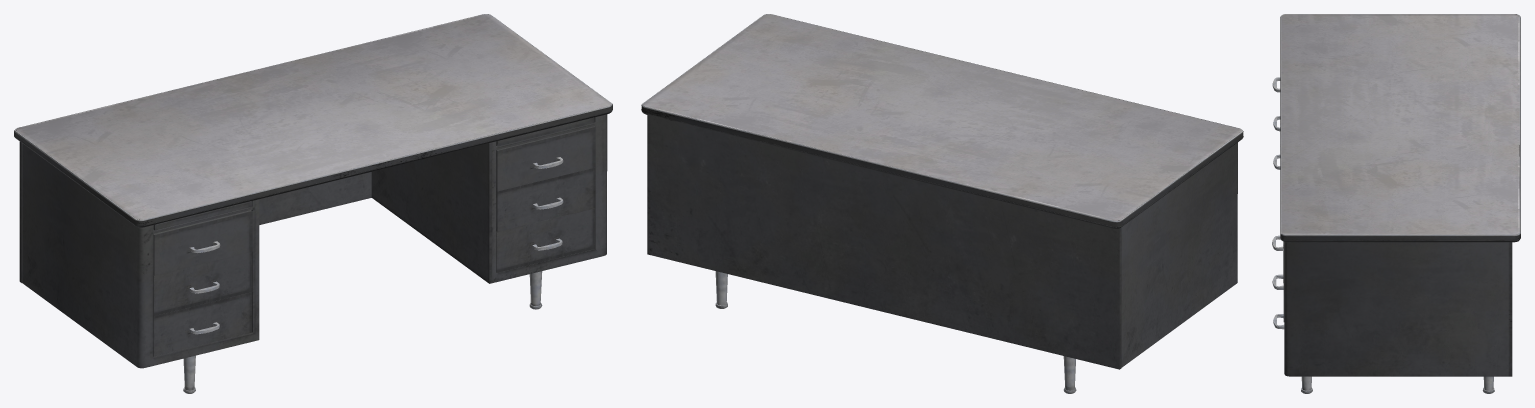
File: ph_metal_office_desk.fbx
3 views of the same model, side by side, from view 1: azimuth 30°, elevation 25°; view 2: azimuth 150°, elevation 25°; view 3: azimuth 270°, elevation 25° (orthographic). The views are drawn at different scales.
Visible parts, largest first — view 1: ph_metal_office_desk_LOD0; view 2: ph_metal_office_desk_LOD0; view 3: ph_metal_office_desk_LOD0.
Part boxes in pixels (box(x1,y1,x2,y2)): ph_metal_office_desk_LOD0: box(14, 14, 612, 393); ph_metal_office_desk_LOD0: box(641, 14, 1243, 393); ph_metal_office_desk_LOD0: box(1272, 14, 1520, 393).
Size of what is drawn, in the model's own units: 2 by 0.7868 by 0.9483.
Materials: 1 (1 with a texture image).
